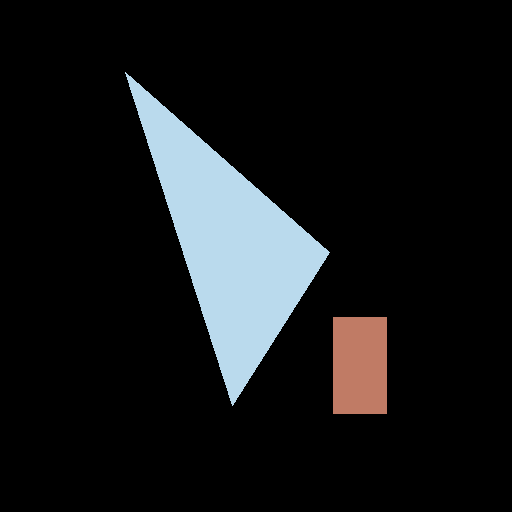rectangle: (333, 317, 386, 413)
triangle: (125, 72, 329, 405)
